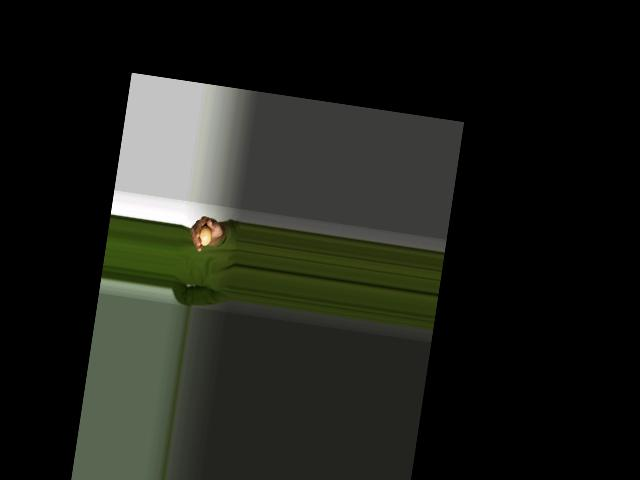egg: (197, 225, 212, 247)
